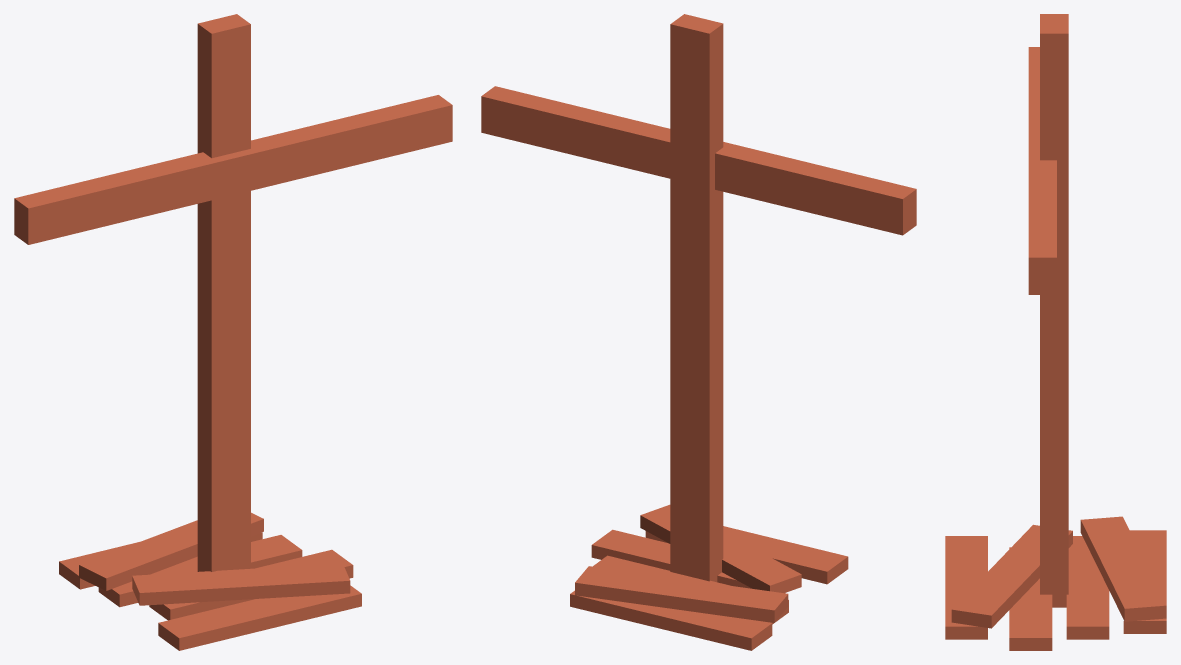
The model's file is mast.fbx.
The picture shows the model from 3 angles, left to right: view 1: azimuth 30°, elevation 25°; view 2: azimuth 150°, elevation 25°; view 3: azimuth 270°, elevation 25°; orthographic projection. The views are drawn at different scales.
Visible parts, largest first — view 1: mergedBlocks; view 2: mergedBlocks; view 3: mergedBlocks.
Part boxes in pixels (x1,y1,x2,y2): mergedBlocks: (14,14,452,650); mergedBlocks: (481,14,916,650); mergedBlocks: (945,14,1166,650).
Size of the model in its own units: 17.46 by 22.18 by 7.76.
